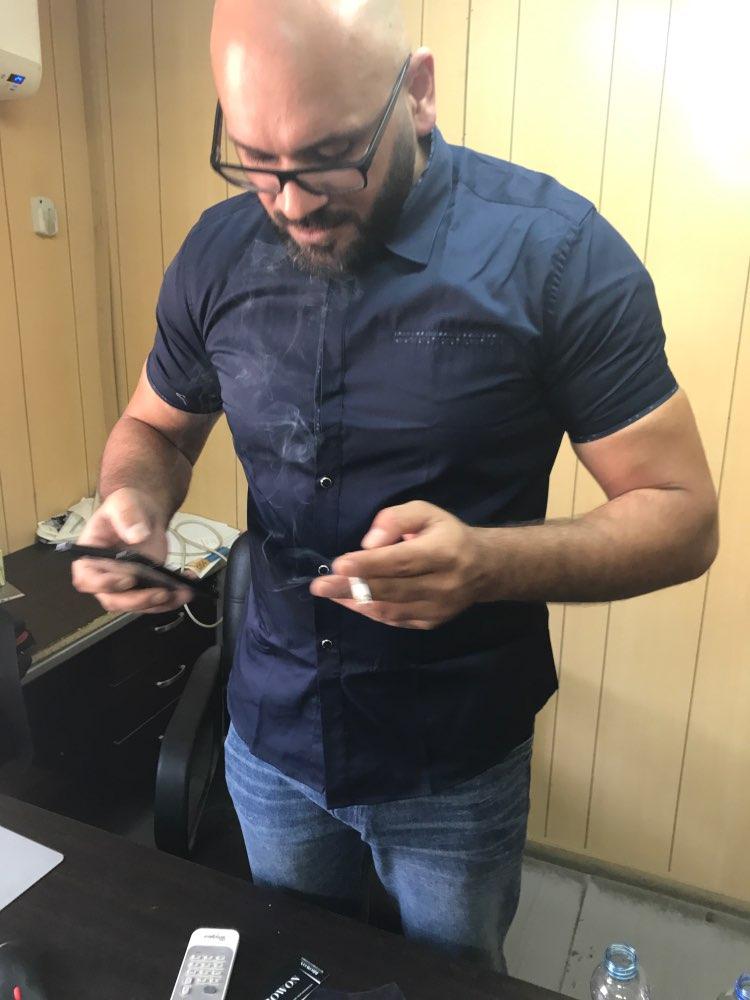shirts: (141, 126, 674, 794)
